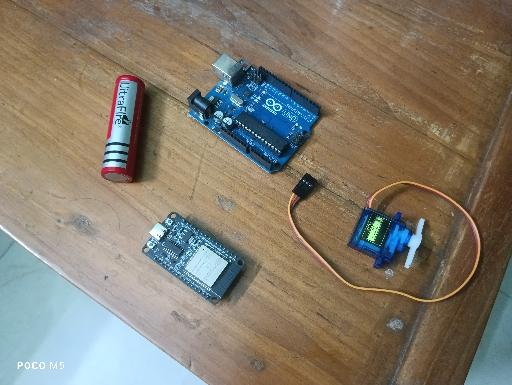Arduino: (186, 52, 322, 174)
Battery: (101, 75, 146, 183)
Esp32: (142, 211, 245, 305)
Motor: (346, 206, 426, 271)
